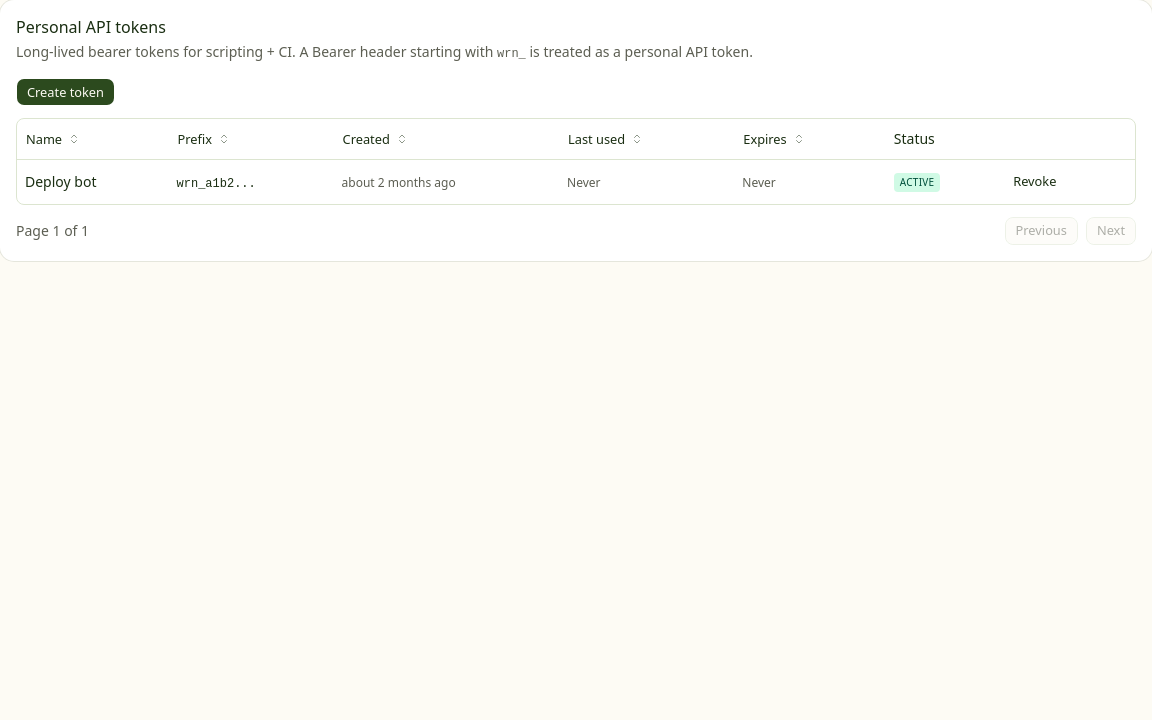
ApiTokensSection › revoke removes the row from the table after the typed-client succeeds
expect the text "Deploy bot" is shown: met, box [25, 172, 96, 190]
Click the button "Revoke" at (1035, 182), box [1002, 168, 1067, 196]
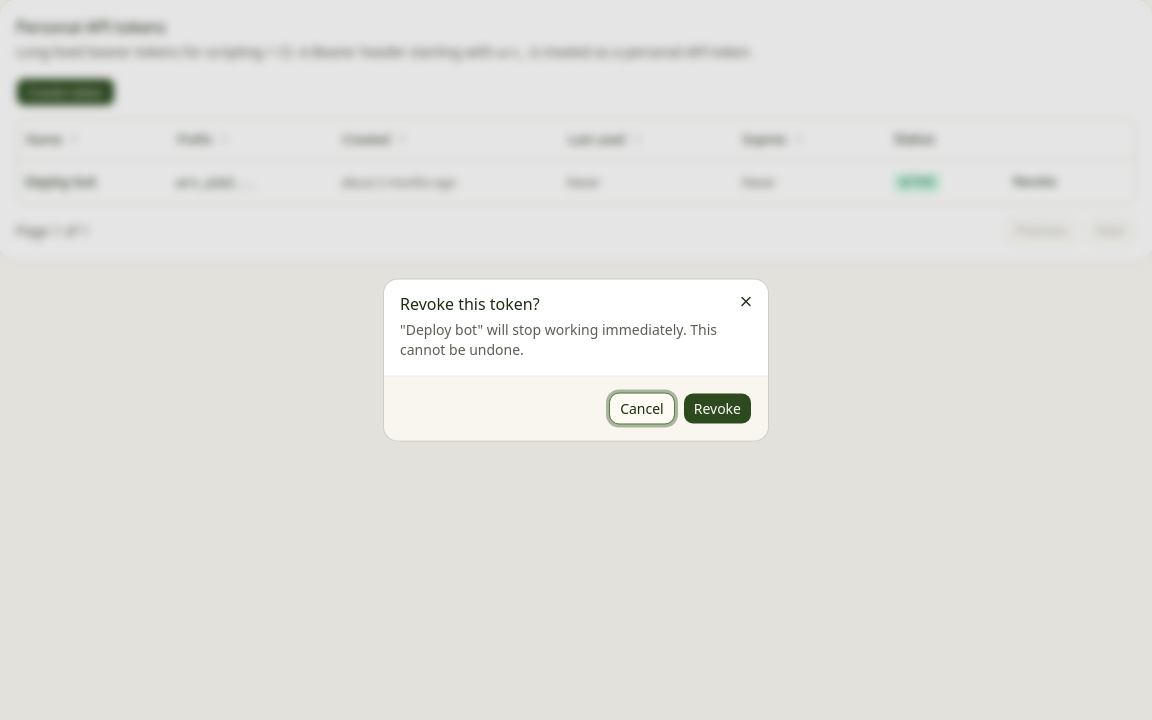
expect the dialog with test id "api-token-revoke-dialog" is shown: met, box [384, 280, 768, 440]
Click the button with test id "api-token-revoke-confirm" at (717, 408), box [683, 392, 752, 424]
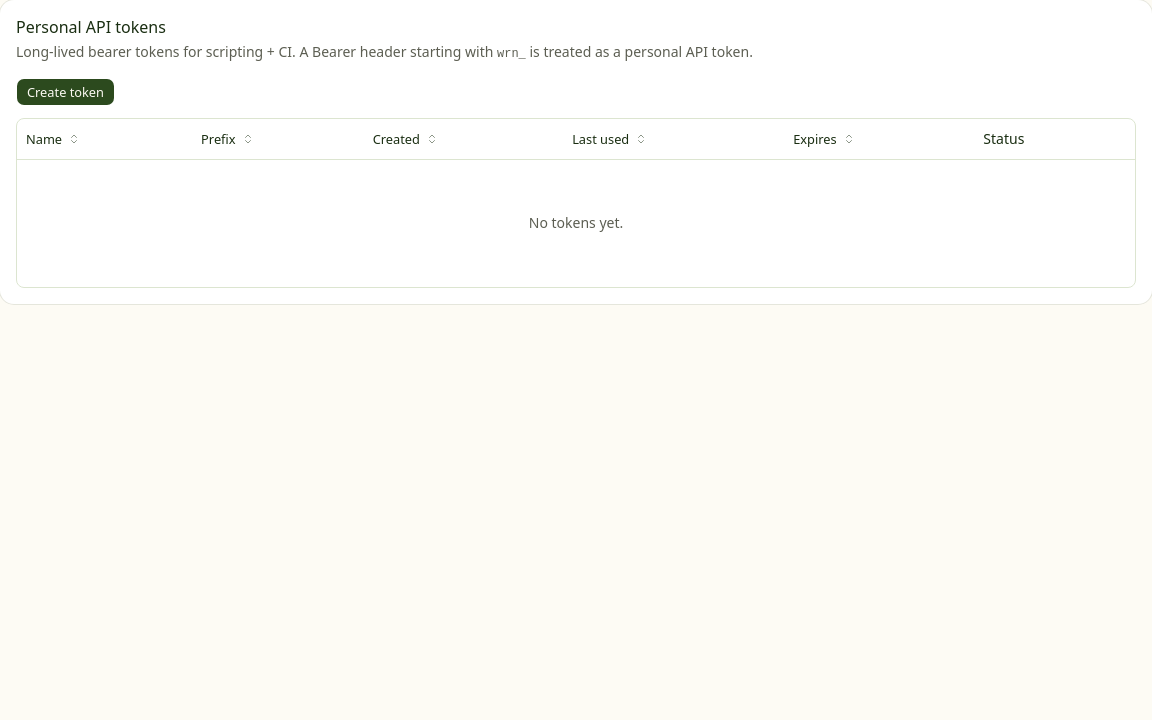
expect the text "Deploy bot" is gone: met
